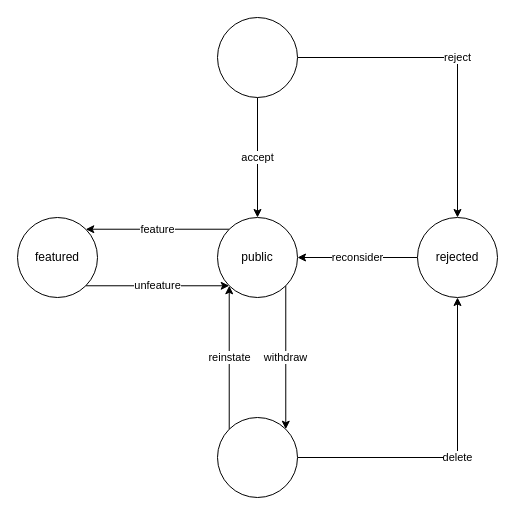
Image size: 515x515. Some labels were removed from this diagram. The centre of each missing label's shape, as x and y in pixels:
pending: the point at 257,57
withdrawn: the point at 257,457
